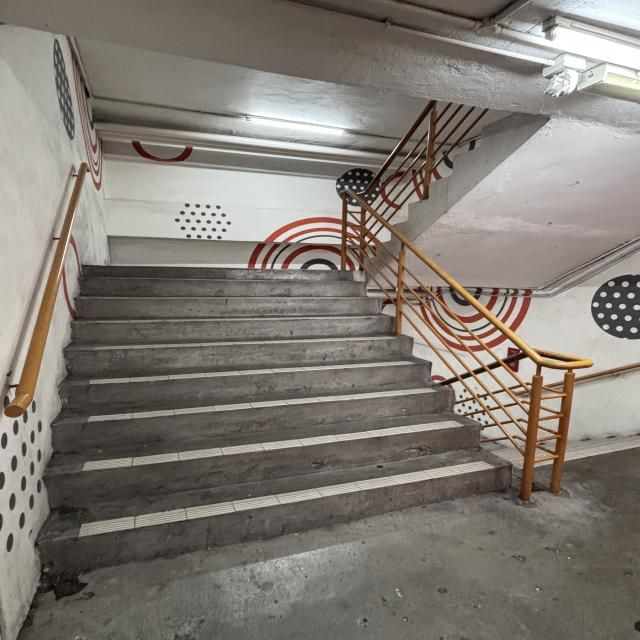Stairs: (6, 90, 640, 576)
